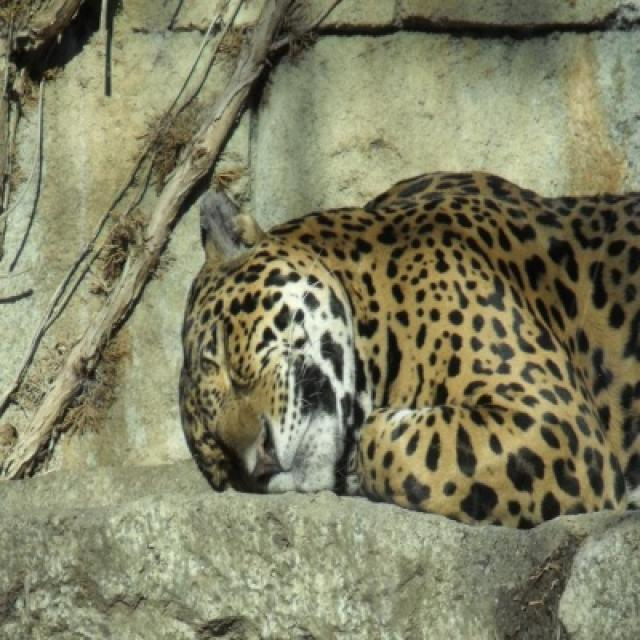Jaguar: (176, 171, 638, 533)
